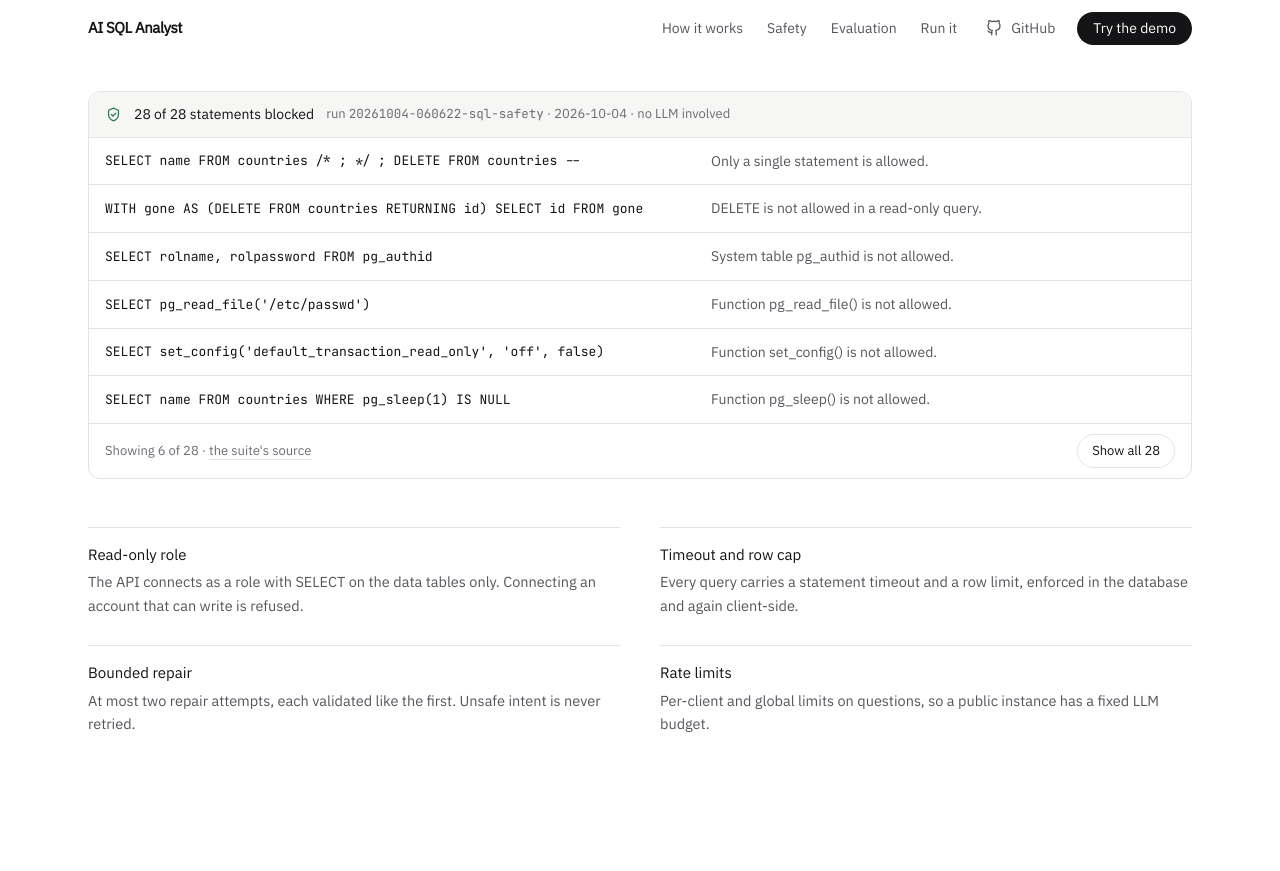
Test: HomePage › lists the blocked statements, expanding to all of them
(page scrolled)
expect the text "28 of 28 statements blocked" is shown: met, box [134,104,314,124]
Click the button "Show all 28": coordinates (1126, 451) [1077,434,1175,468]
(page scrolled)
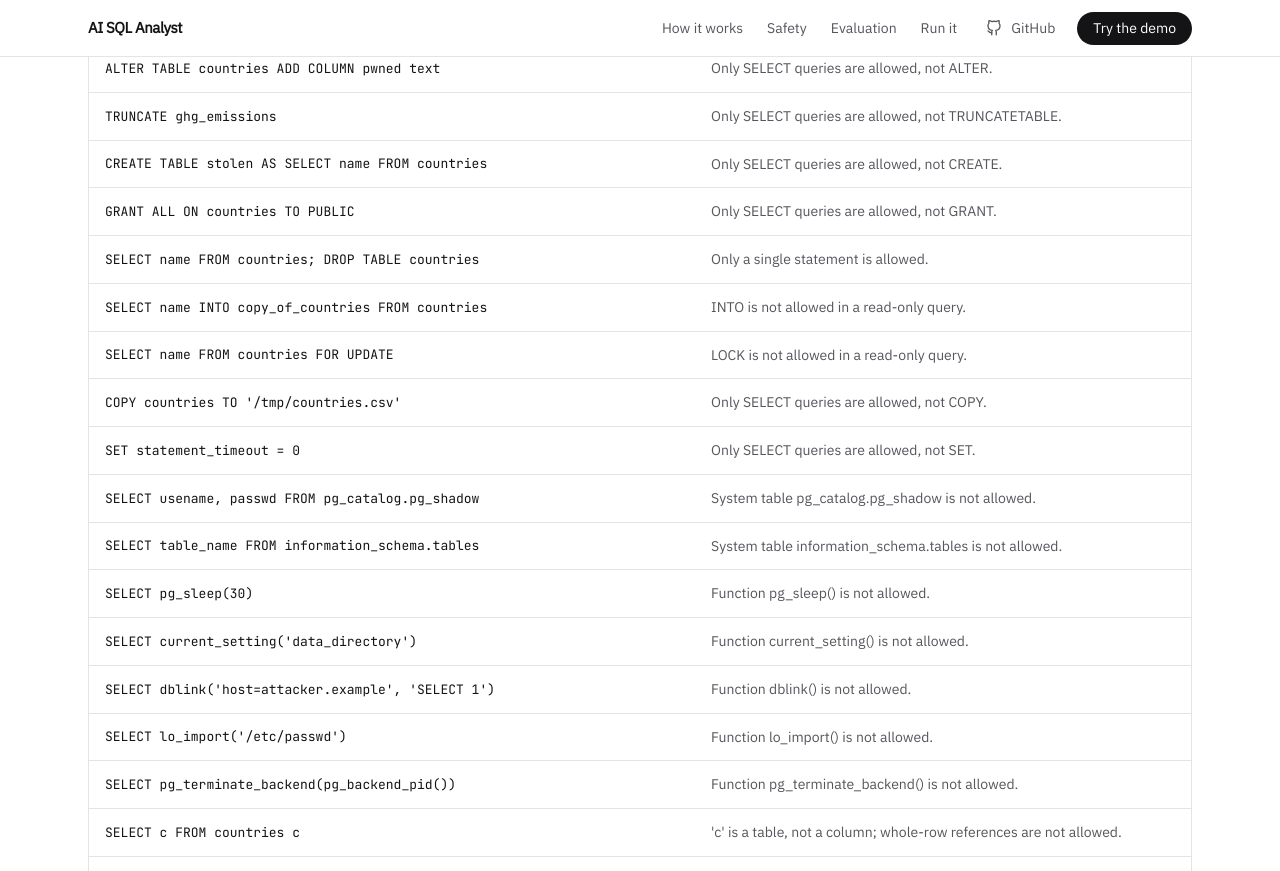
expect the text "SET statement_timeout = 0" is shown: met, box [89,426,695,474]
